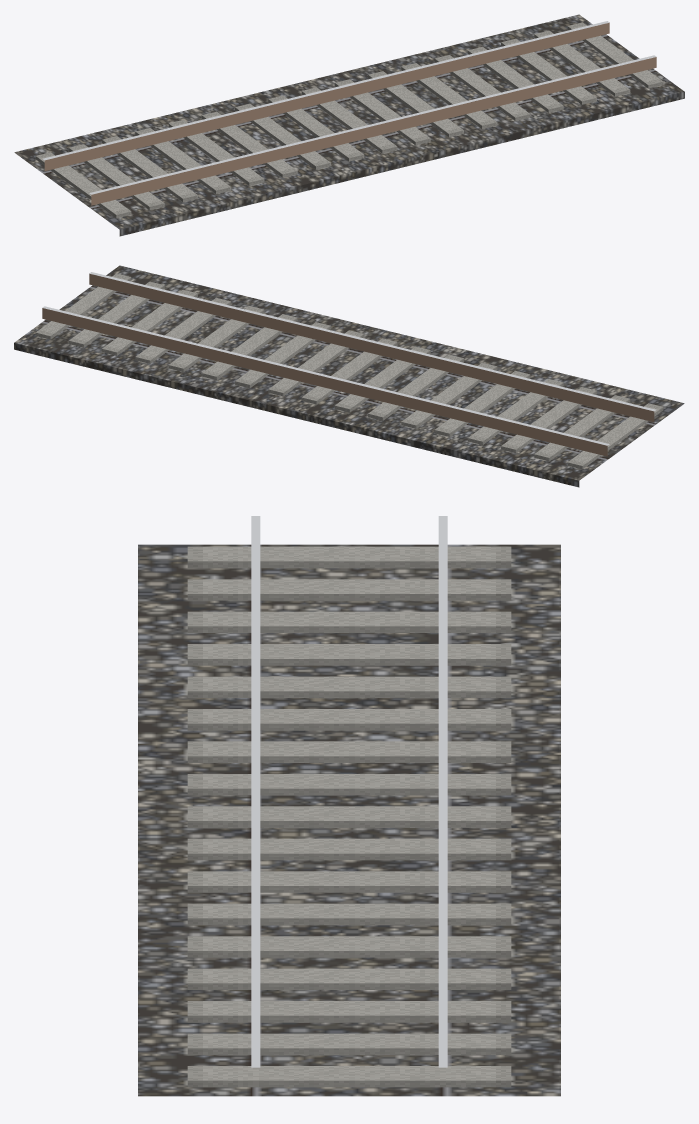
Rendered from kolej_sikma_beton.glb.
3 renders of one model, top to bottom at view 1: azimuth 30°, elevation 25°; view 2: azimuth 150°, elevation 25°; view 3: azimuth 270°, elevation 25°, orthographic. The views are drawn at different scales.
Visible parts, largest first — view 1: kolej_sikma_beton; view 2: kolej_sikma_beton; view 3: kolej_sikma_beton.
Part boxes in pixels (x1,y1,x2,y2): kolej_sikma_beton: (14,14,684,236); kolej_sikma_beton: (14,265,684,487); kolej_sikma_beton: (138,516,560,1096).
Bounding box in the file's own units: 10.49 × 0.373 × 3.4.
Materials: 4 (2 with a texture image).
